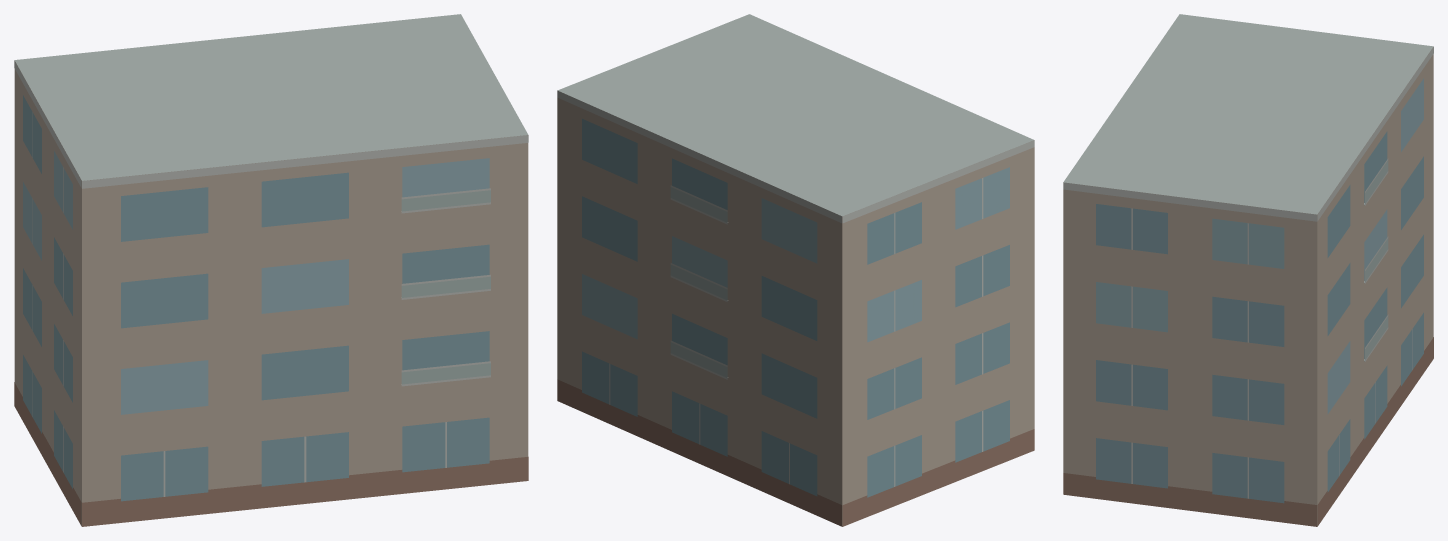
Rendered from survey-upis-32874818.glb.
3 views of the same model, side by side, from view 1: azimuth 30°, elevation 25°; view 2: azimuth 150°, elevation 25°; view 3: azimuth 270°, elevation 25° (orthographic). The views are drawn at different scales.
Parts seen in each view (by area): view 1: survey-upis-32874818.tmp; view 2: survey-upis-32874818.tmp; view 3: survey-upis-32874818.tmp.
Boxes of the visible parts, box(x1,y1,x2,y2) form: survey-upis-32874818.tmp: box(14, 14, 528, 526); survey-upis-32874818.tmp: box(557, 14, 1034, 526); survey-upis-32874818.tmp: box(1063, 14, 1433, 526).
Bounding box in the file's own units: 14.75 × 10.7 × 11.52.
